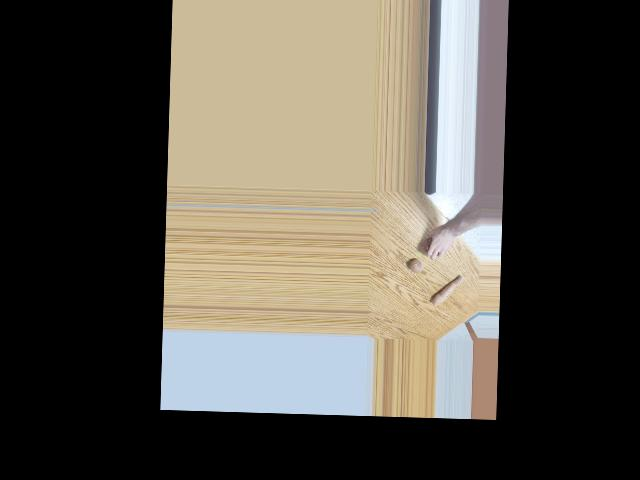onion: (422, 235, 437, 254)
